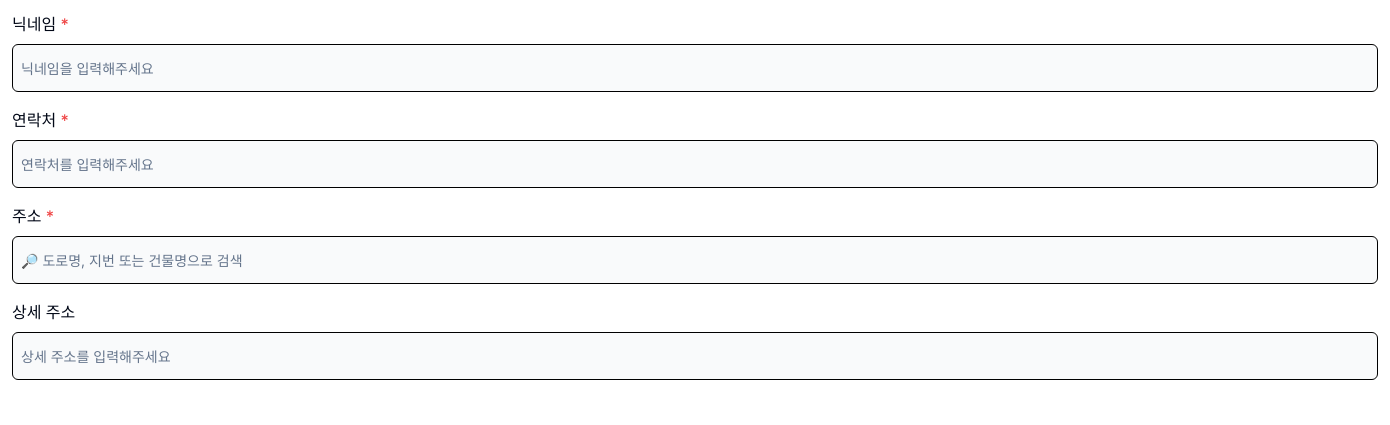
Test: CreateMemberForm › validates contact field
The width and height of the screenshot is (1390, 425).
잘못된 전화번호 형식
Type "test" into the field with placeholder "연락처를 입력해주세요". click: (695, 164)
box: [12, 140, 1378, 188]
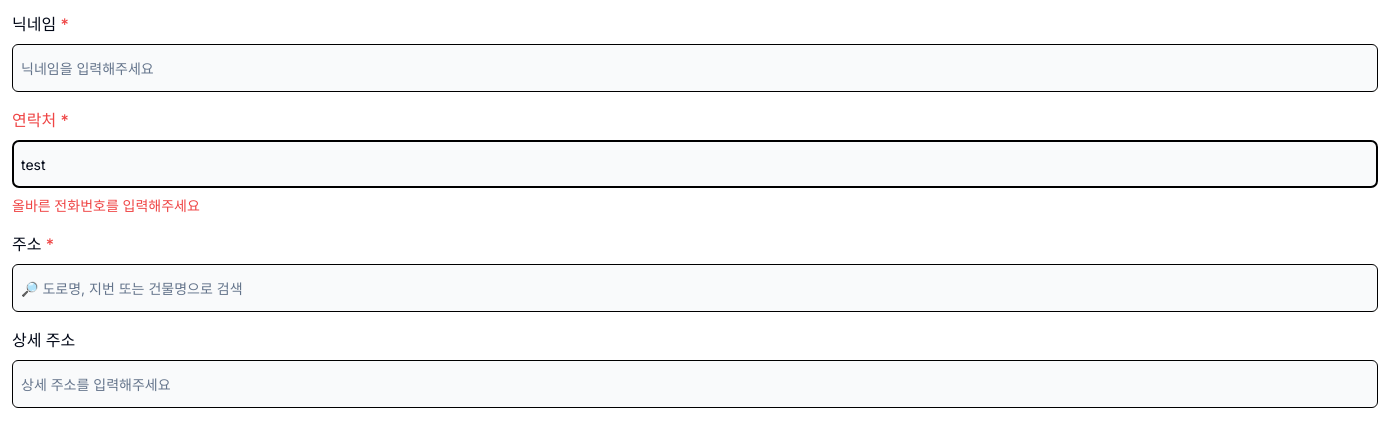
Result: the text "올바른 전화번호를 입력해주세요" is shown at [12, 197, 200, 214]
Replace the text in the field with placeholder "연락처를 입력해주세요" with "01000000000". click: (695, 164)
box: [12, 140, 1378, 188]
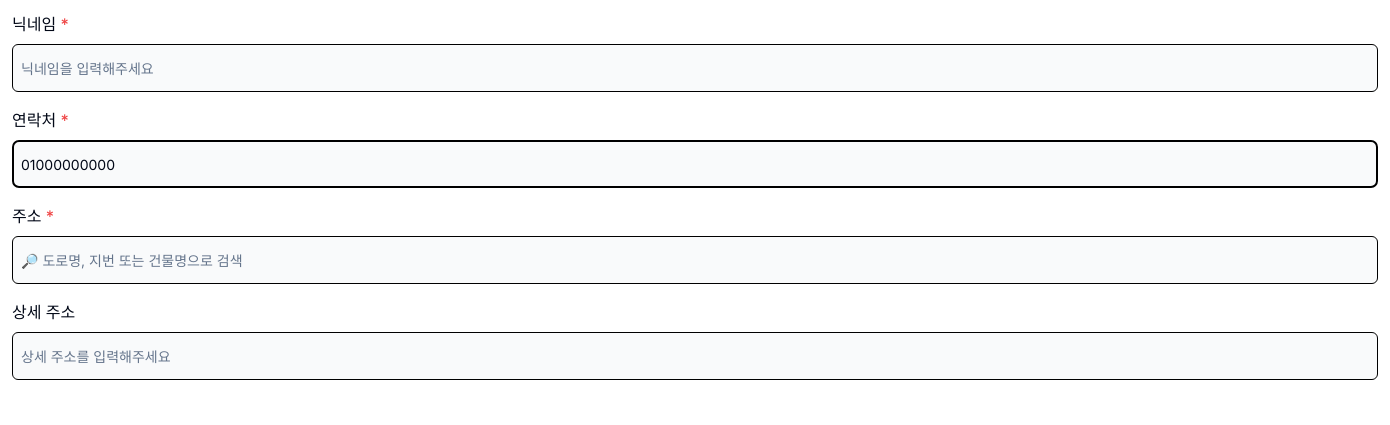
Result: the text "올바른 전화번호를 입력해주세요" is gone
